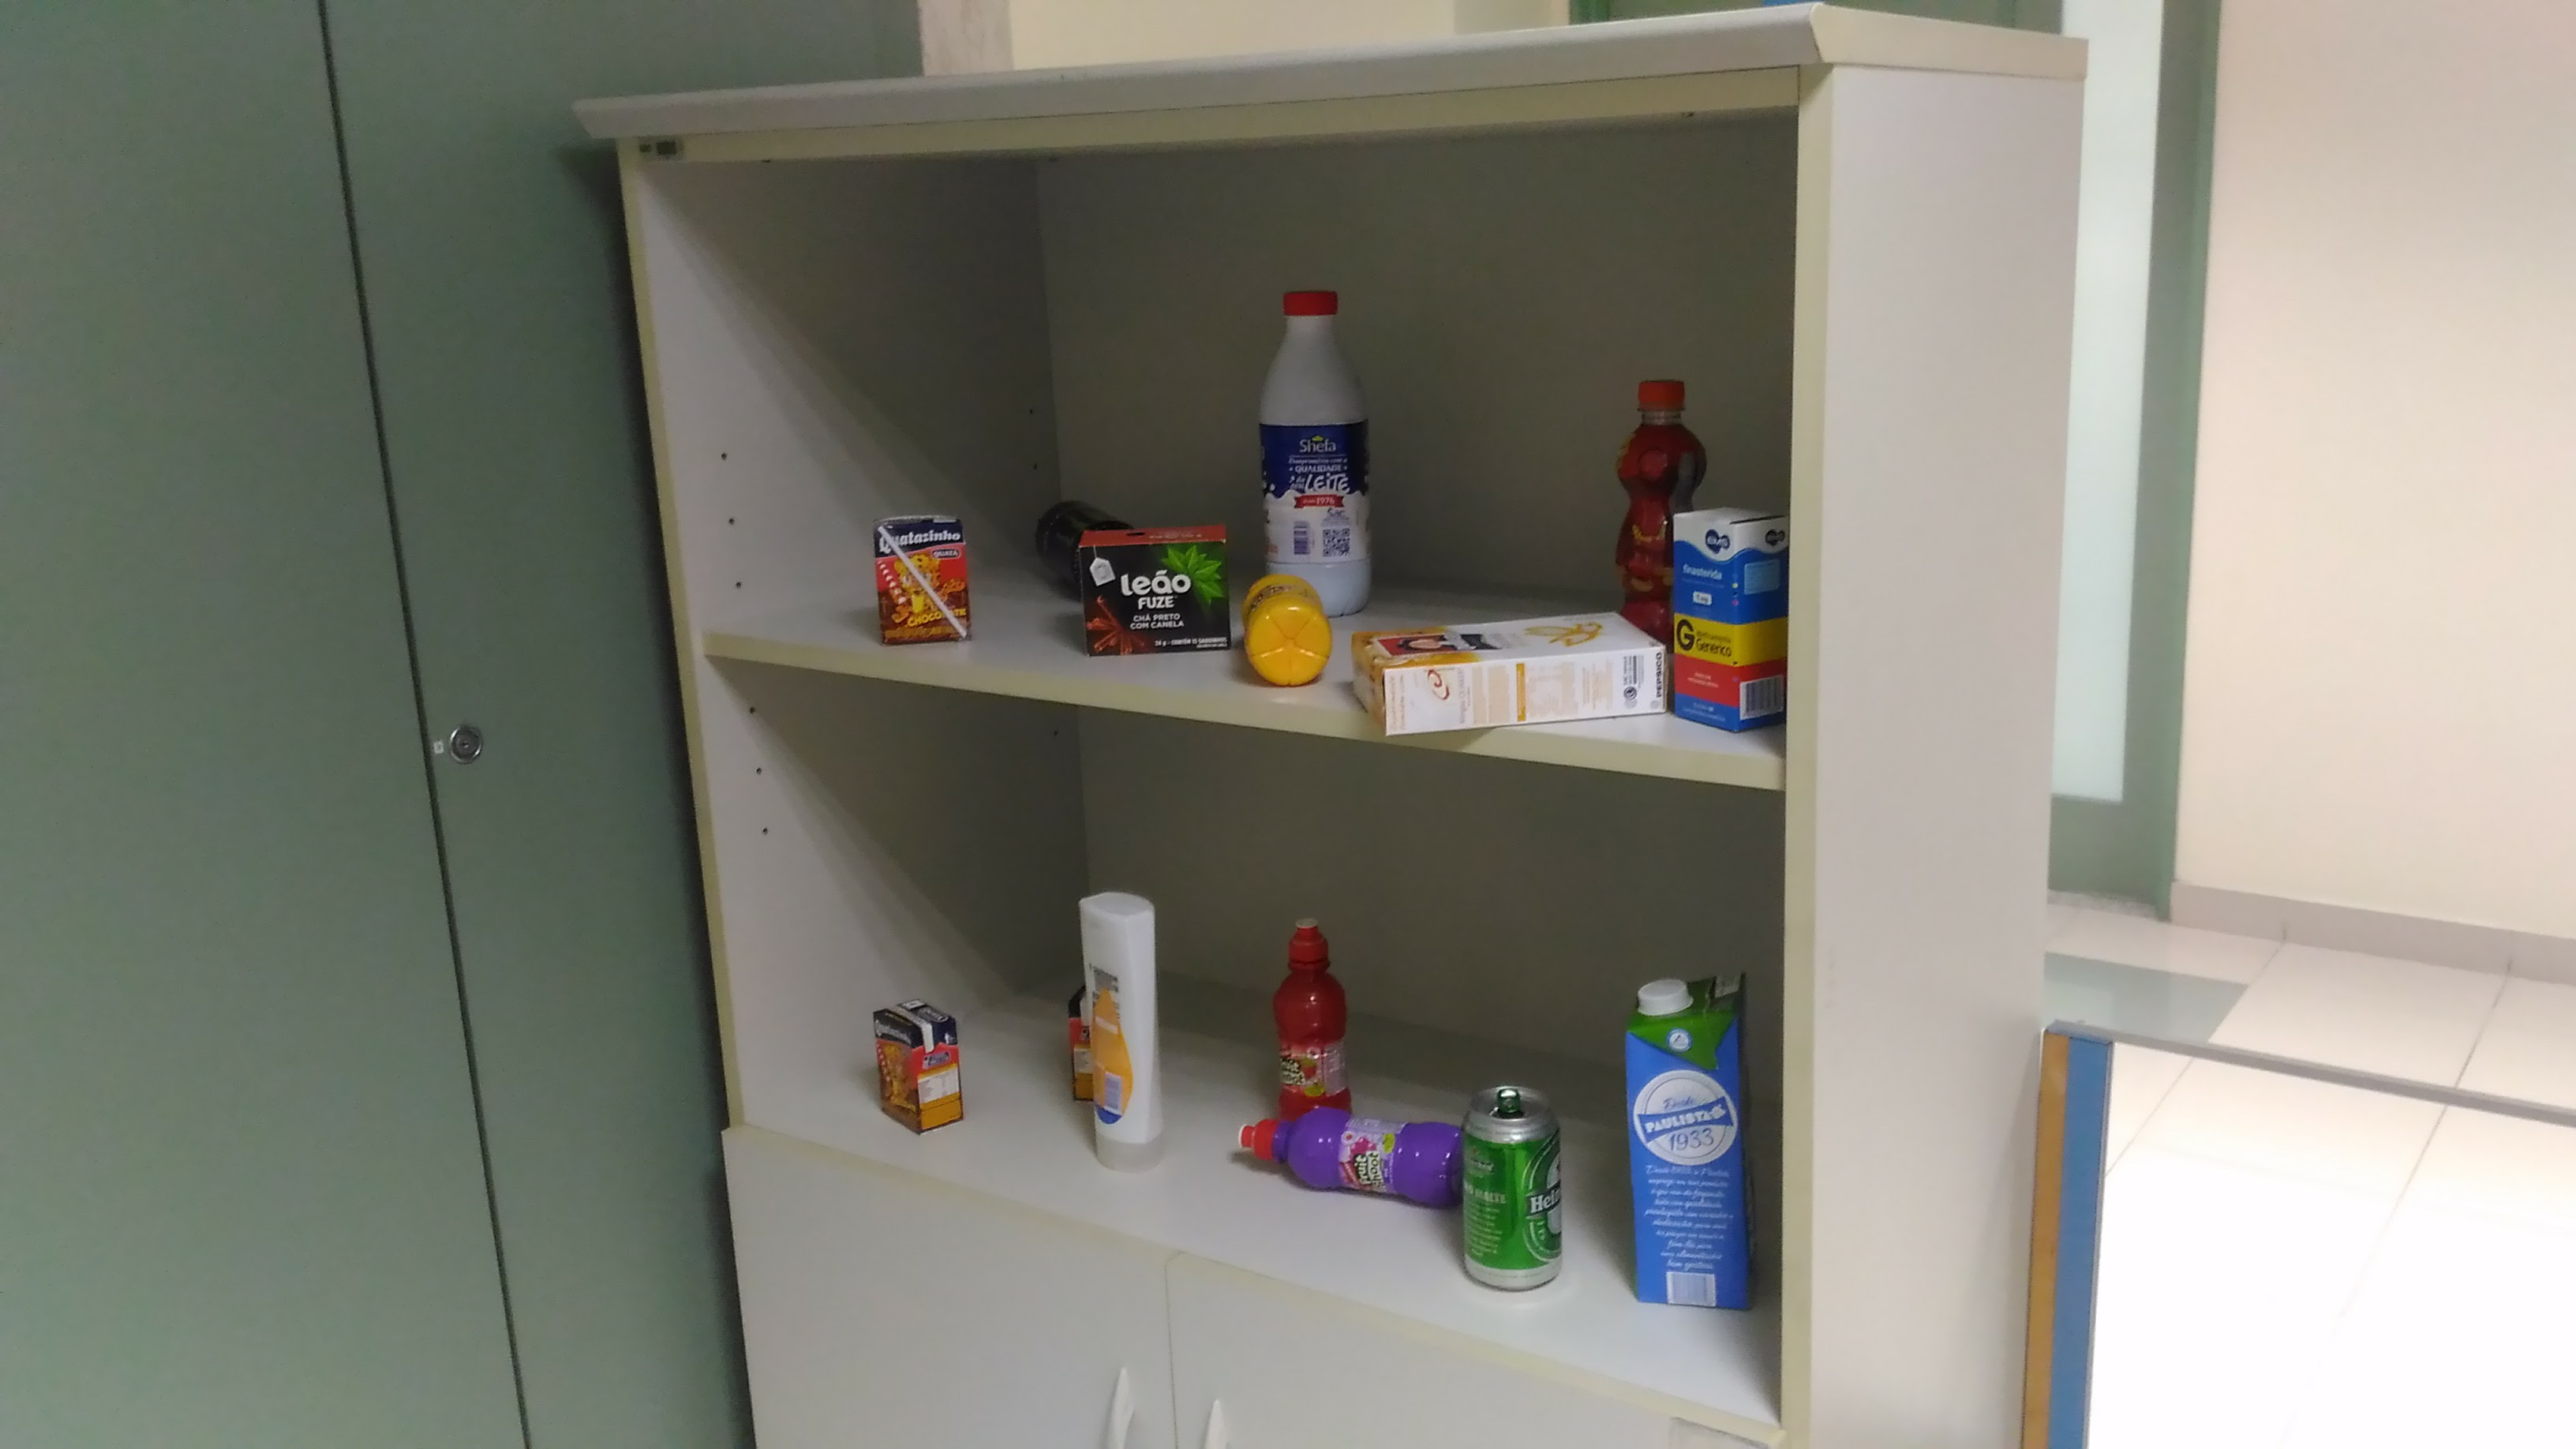cereal: (1339, 607, 1679, 743)
chocolate_milk: (863, 501, 980, 655), (863, 987, 975, 1141)
heineken: (1451, 1076, 1575, 1299)
medicine: (1665, 497, 1790, 740)
milk_bottle: (1251, 278, 1382, 579)
milk_box: (1612, 962, 1757, 1311)
purple_juice: (1231, 1106, 1463, 1214)
red_juice: (1263, 906, 1361, 1120)
shampoo: (1076, 878, 1164, 1171)
tea_box: (1074, 520, 1240, 663)
